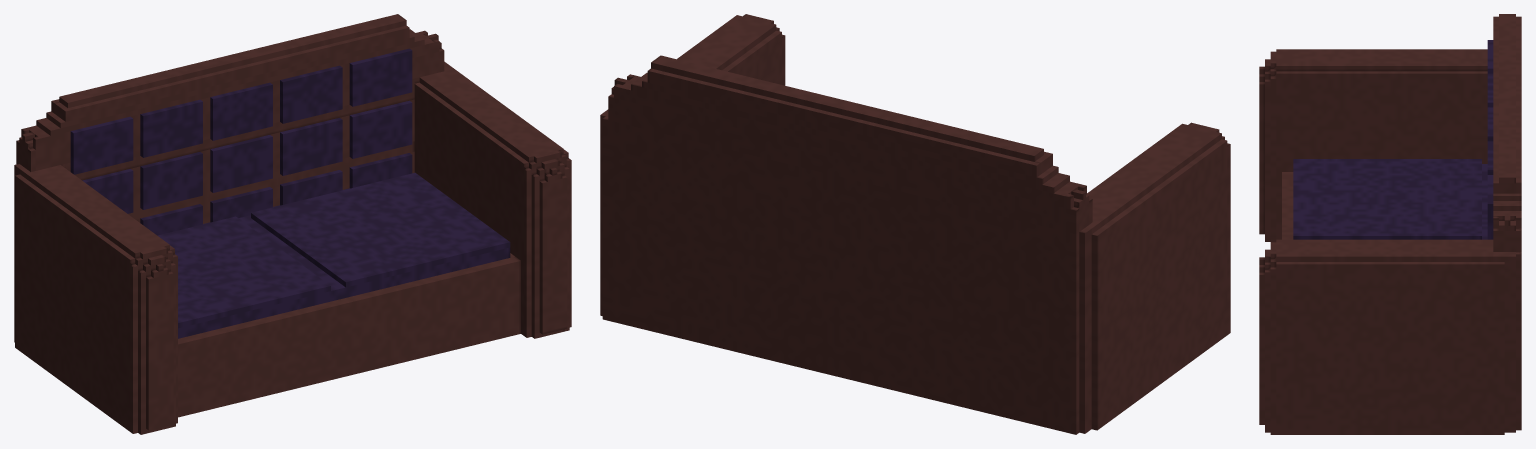
Rendered from sofa_burd.dae.
The picture shows the model from 3 angles, left to right: view 1: azimuth 30°, elevation 25°; view 2: azimuth 150°, elevation 25°; view 3: azimuth 270°, elevation 25°; orthographic projection. The views are drawn at different scales.
Parts seen in each view (by area): view 1: Content; view 2: Content; view 3: Content.
Part boxes in pixels (x1,y1,x2,y2): Content: [14, 14, 571, 434]; Content: [600, 14, 1230, 434]; Content: [1259, 14, 1521, 434].
Size of the model in its own units: 88 by 45 by 46.
1 material, 1 textured.
